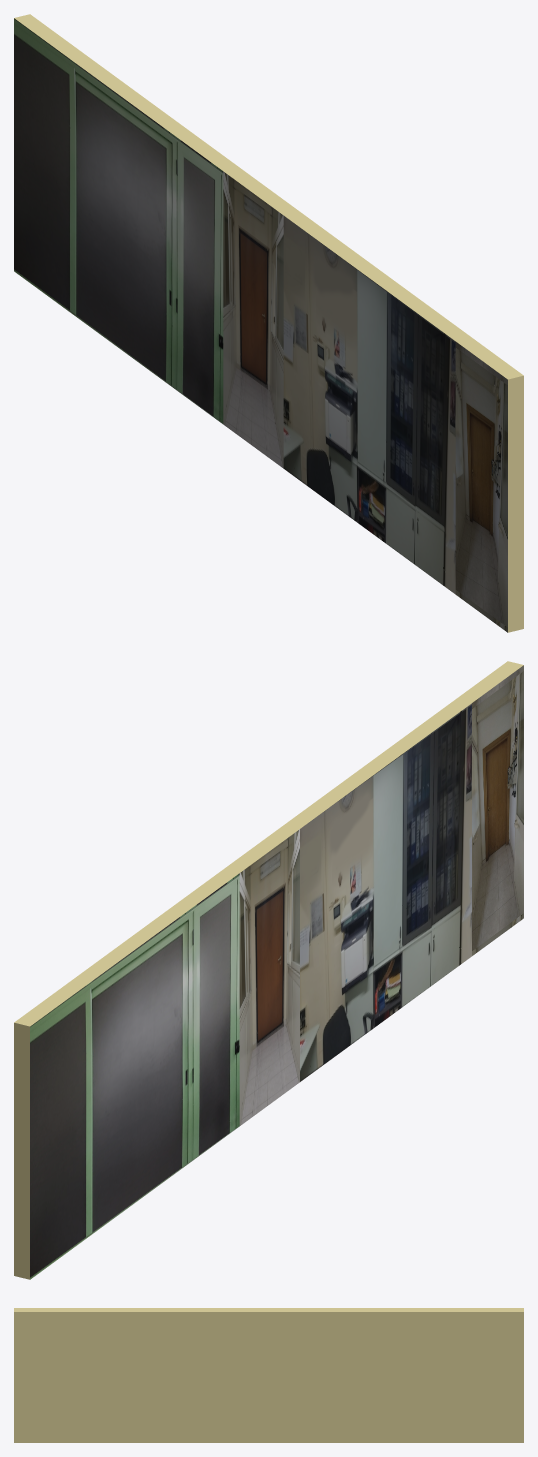
Rendered from esternodentro.gltf.
3 views of the same model, one above another, from view 1: azimuth 30°, elevation 25°; view 2: azimuth 150°, elevation 25°; view 3: azimuth 270°, elevation 25° (orthographic). The views are drawn at different scales.
Parts seen in each view (by area): view 1: Esterno Ufficio; view 2: Esterno Ufficio; view 3: Esterno Ufficio.
Boxes of the visible parts, x1,y1,x2,y2 form: Esterno Ufficio: (14, 14, 523, 632); Esterno Ufficio: (14, 661, 523, 1279); Esterno Ufficio: (14, 1308, 523, 1442).
Bounding box in the file's own units: 0.2 × 3 × 10.6.
5 materials, 4 textured.
